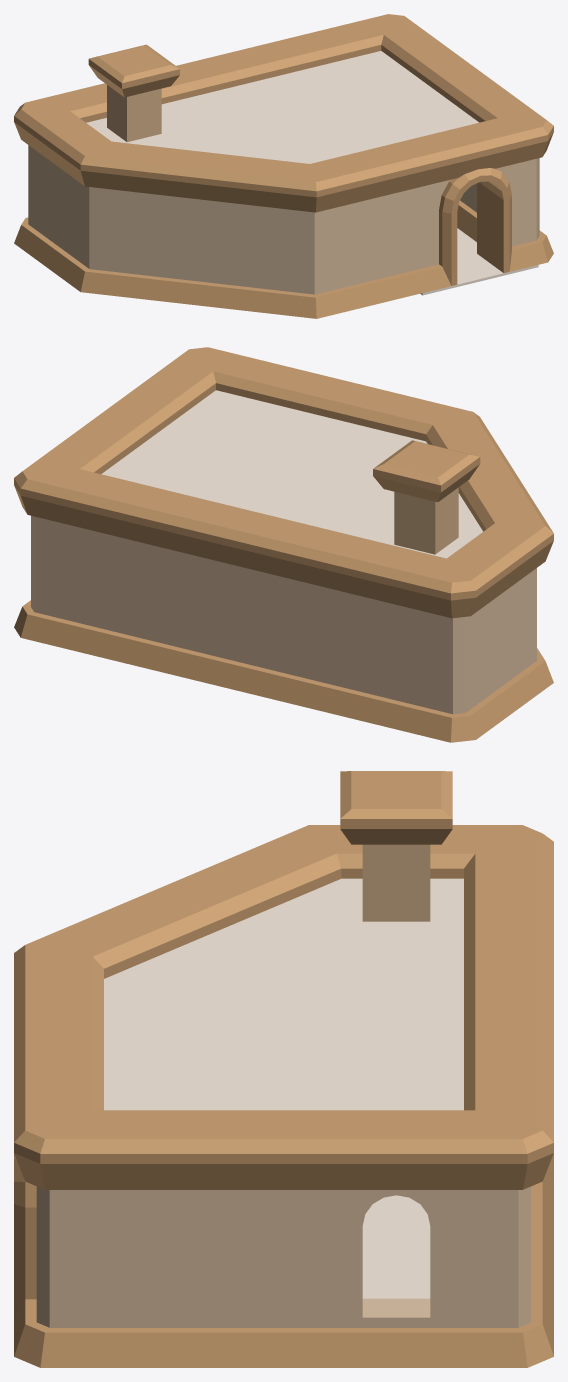
The model's file is SmallDesertHut.fbx.
3 views of the same model, one above another, from view 1: azimuth 30°, elevation 25°; view 2: azimuth 150°, elevation 25°; view 3: azimuth 270°, elevation 25° (orthographic). The views are drawn at different scales.
Parts seen in each view (by area): view 1: mergedBlocks; view 2: mergedBlocks; view 3: mergedBlocks.
Boxes of the visible parts, box(x1,y1,x2,y2) form: mergedBlocks: box(14, 14, 553, 318); mergedBlocks: box(14, 347, 553, 742); mergedBlocks: box(14, 771, 553, 1367).
Size of the model in its own units: 34 by 15.95 by 24.
